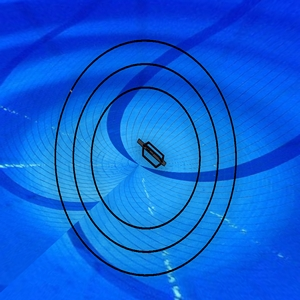circle: (52, 36, 242, 281)
submarine: (135, 134, 169, 174)
